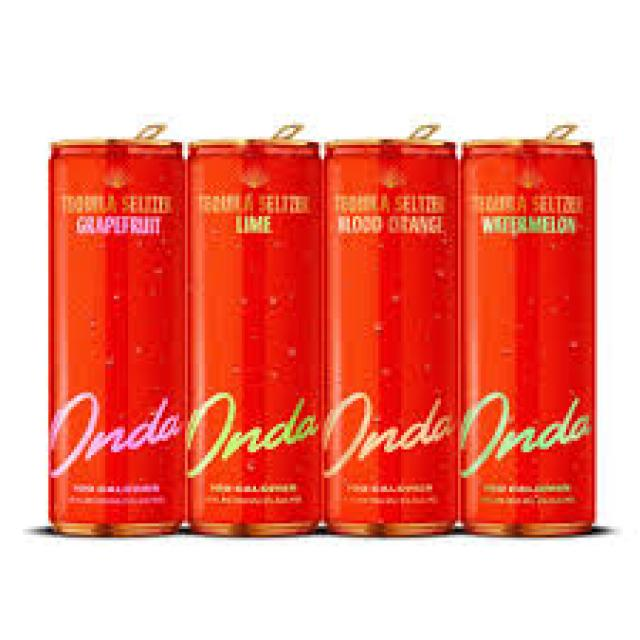Cans: (34, 131, 194, 540), (458, 136, 606, 544), (318, 131, 466, 535), (182, 137, 327, 540)
